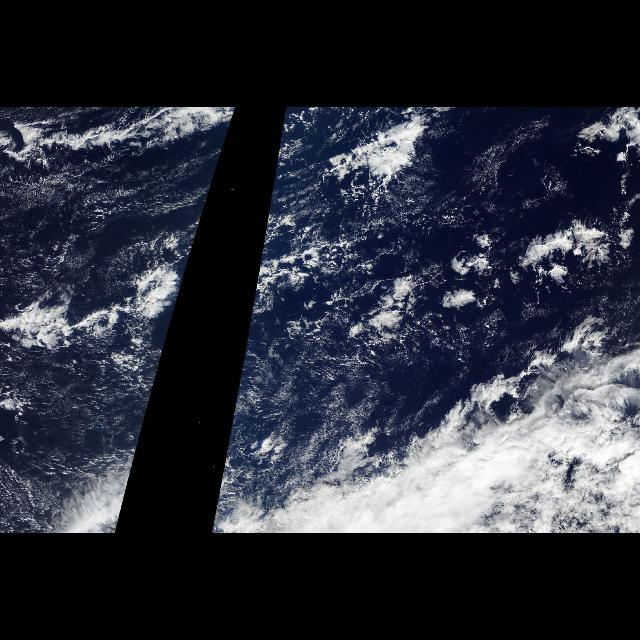Sugar: (6, 162, 218, 282), (259, 165, 325, 272)
